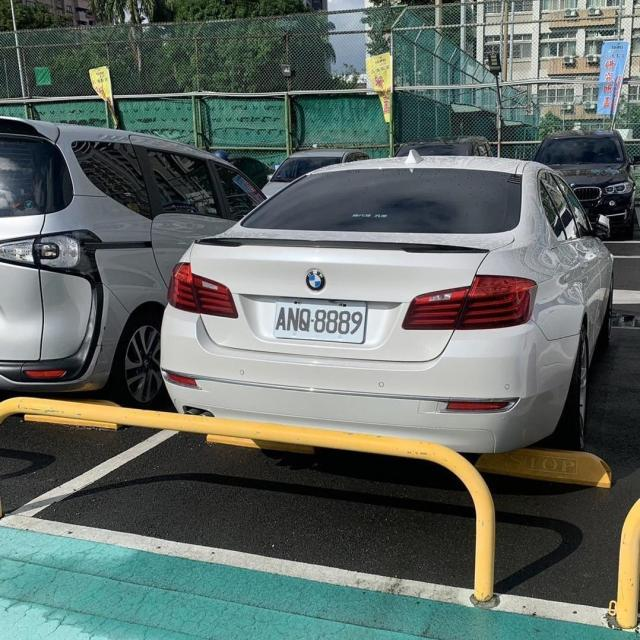W: (267, 294, 376, 348)
